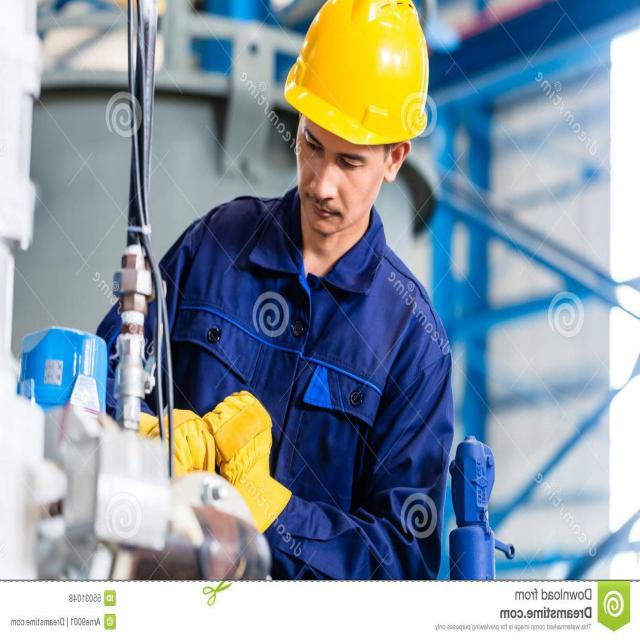Safety-Helmet: (284, 0, 432, 145)
